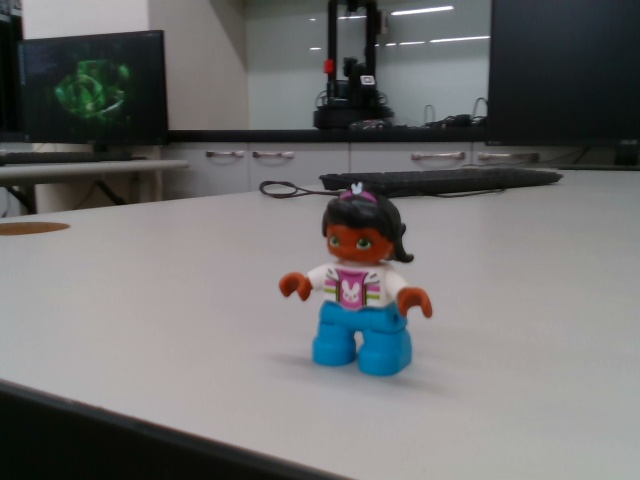people: (278, 181, 438, 380)
